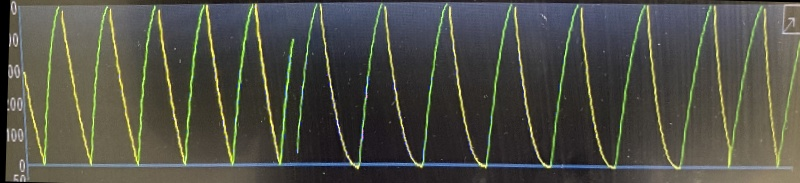normal_volume: (23, 1, 794, 174)
